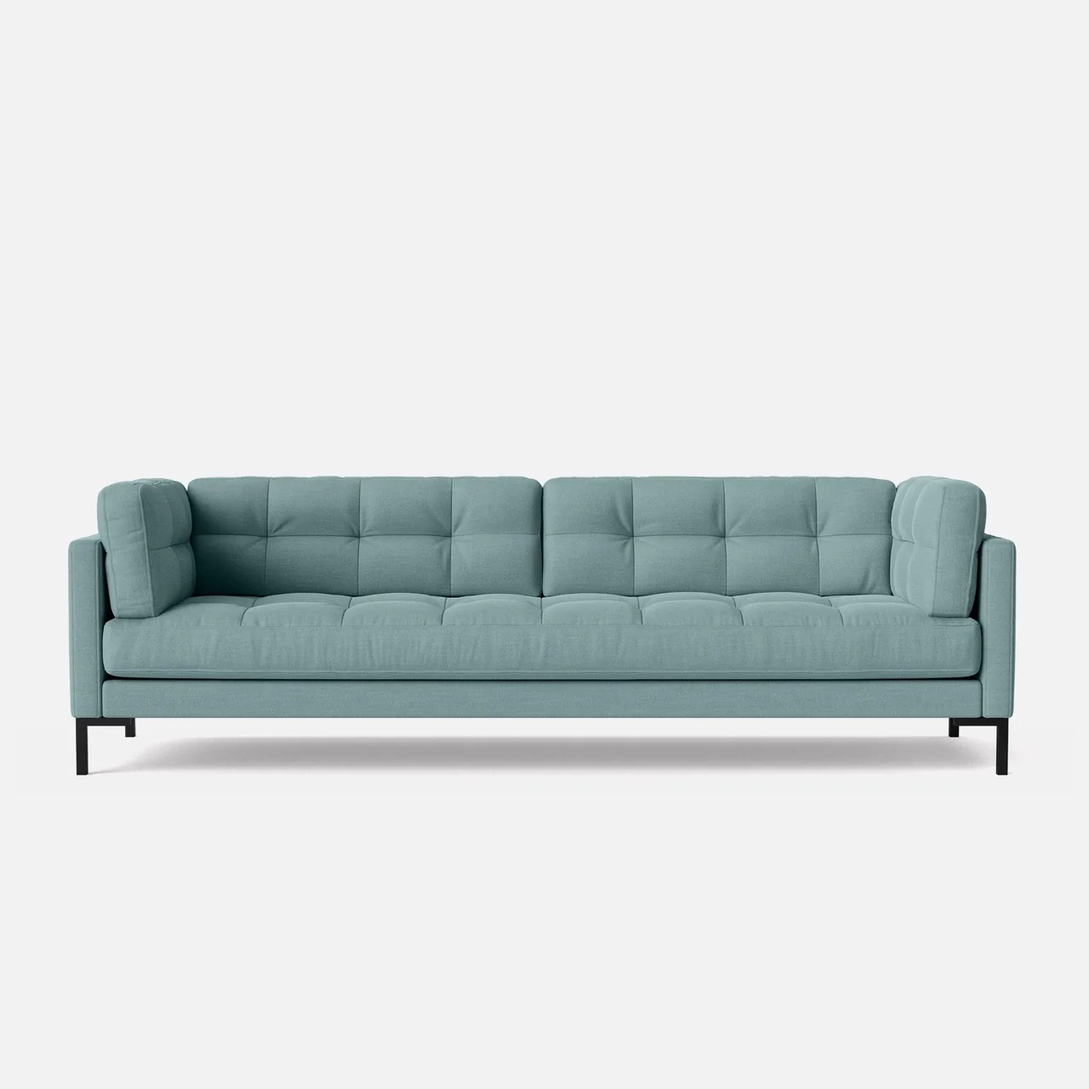3seatersofa: (70, 476, 1015, 775)
backrest: (189, 477, 894, 596)
base: (100, 680, 978, 719)
leftarmrest: (977, 535, 1015, 717)
leg: (949, 718, 1007, 774), (77, 718, 134, 774)
pillow: (890, 476, 985, 615), (99, 480, 194, 618)
rightarmrest: (69, 536, 108, 717)
seat: (105, 592, 980, 679)
